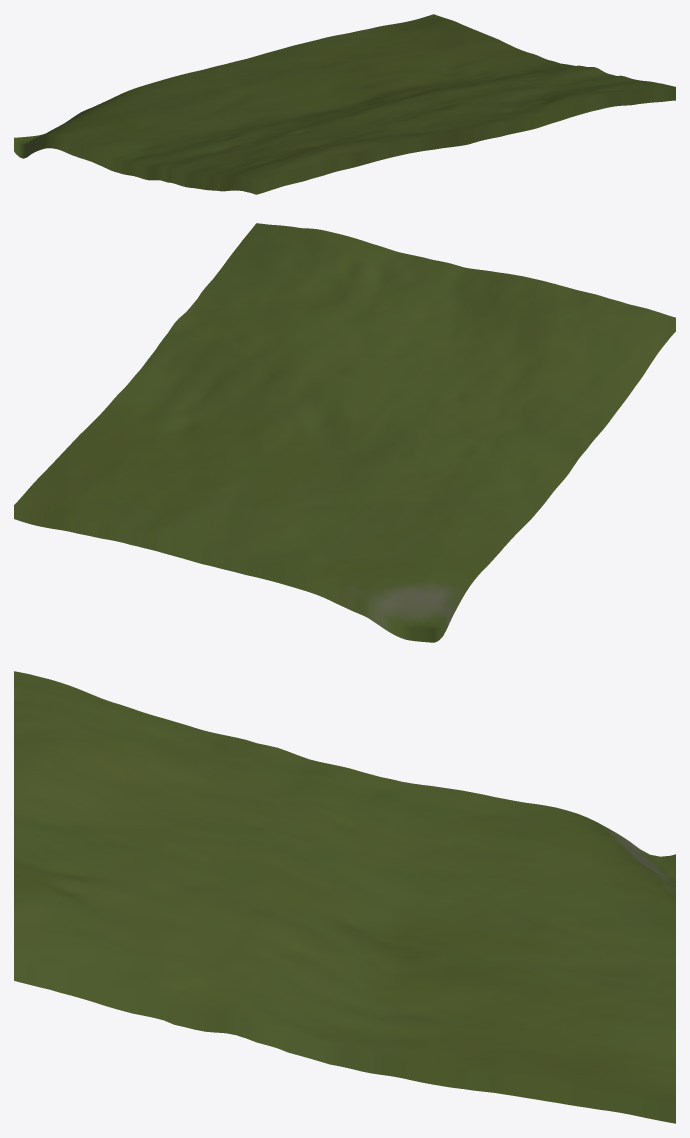
Rendered from terrain_3_-8.glb.
3 renders of one model, top to bottom at view 1: azimuth 30°, elevation 25°; view 2: azimuth 150°, elevation 25°; view 3: azimuth 270°, elevation 25°, orthographic. The views are drawn at different scales.
Visible parts, largest first — view 1: terrain_3_-8; view 2: terrain_3_-8; view 3: terrain_3_-8.
Part boxes in pixels (x1,y1,x2,y2): terrain_3_-8: (14, 14, 675, 194); terrain_3_-8: (14, 223, 675, 642); terrain_3_-8: (14, 671, 675, 1123).
Size of the model in its own units: 256 by 90.84 by 256.
